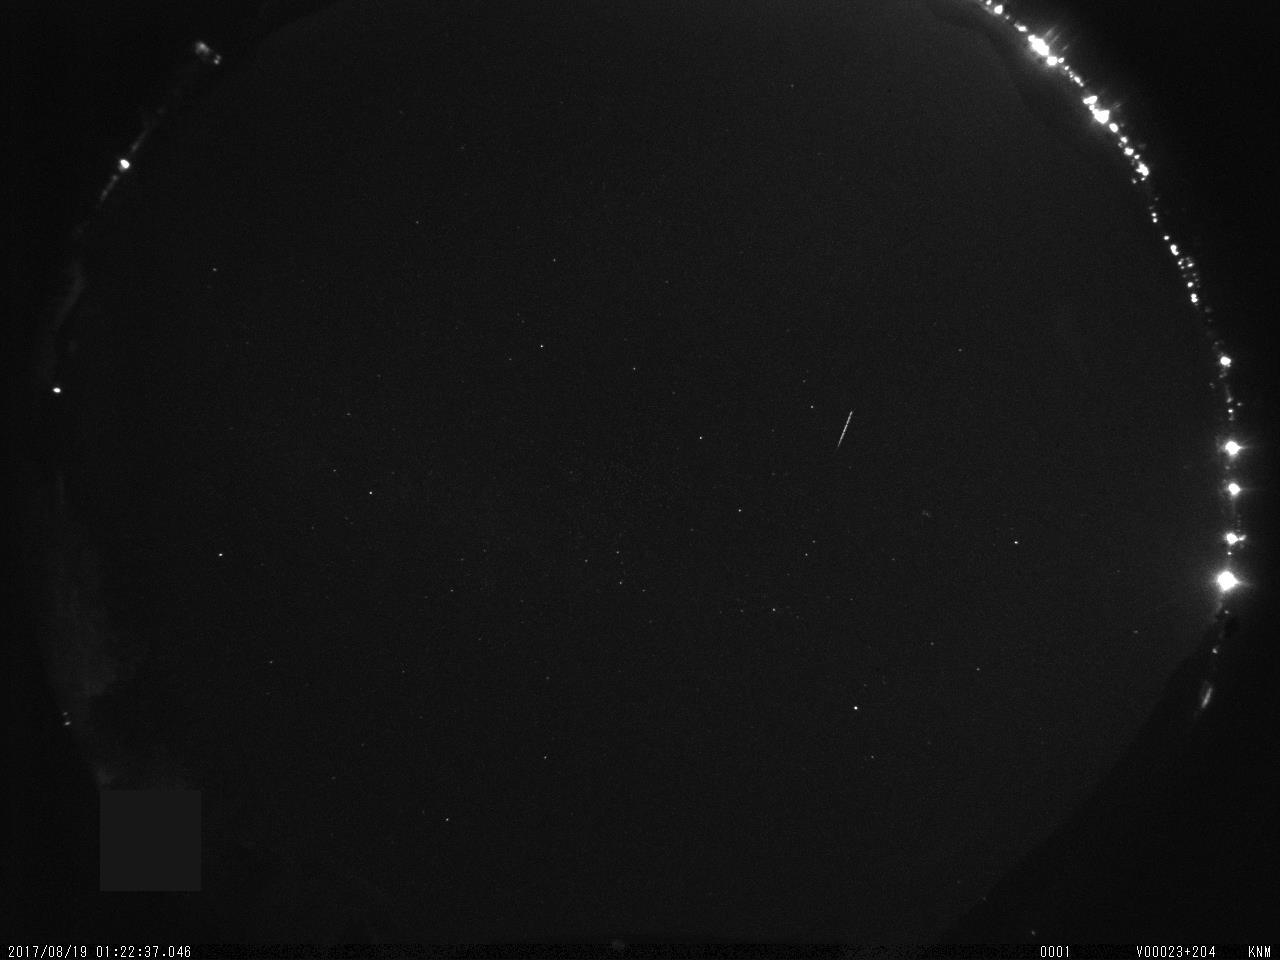meteor: (816, 395, 872, 473)
